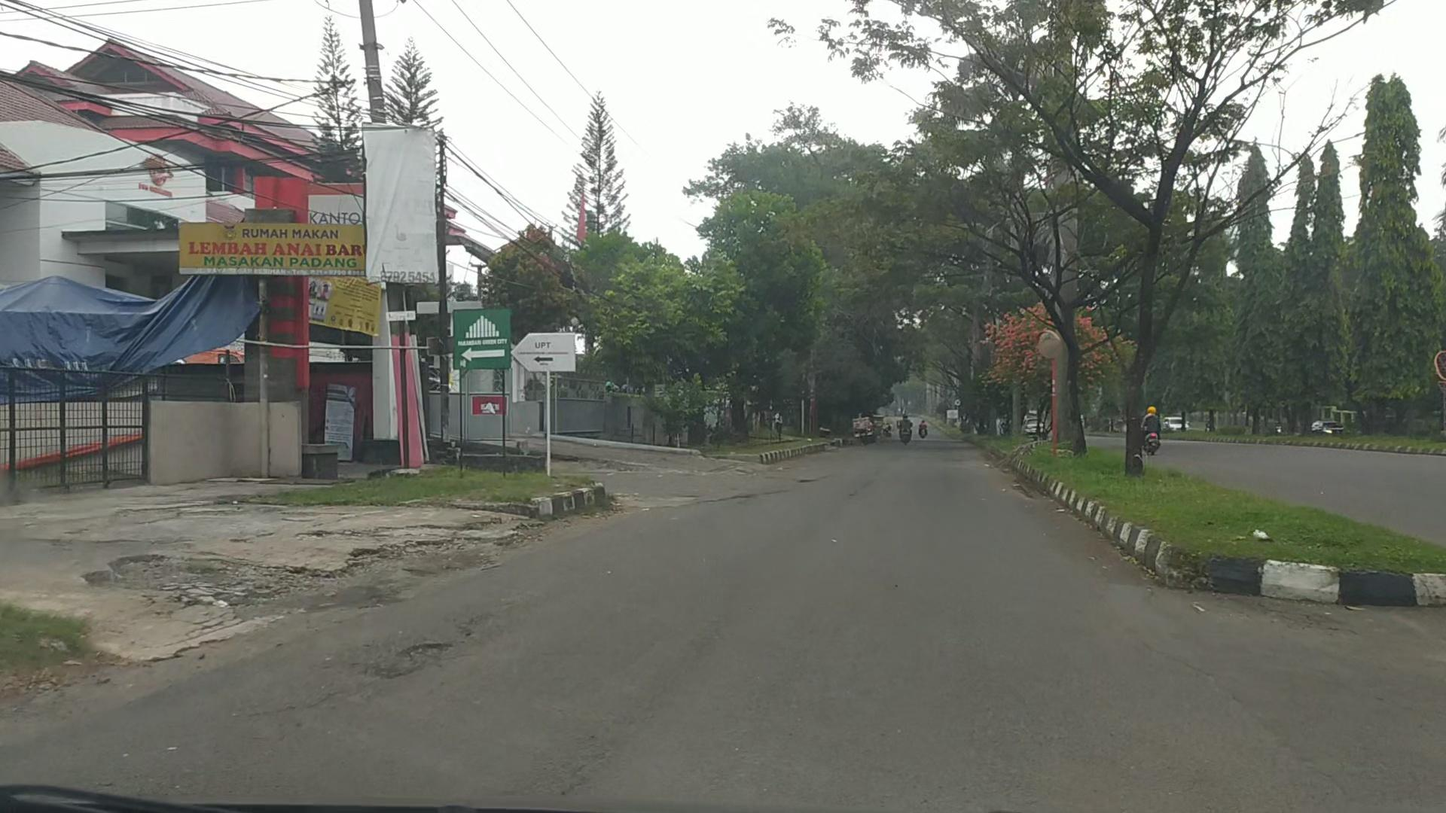pothole: (364, 643, 449, 680)
